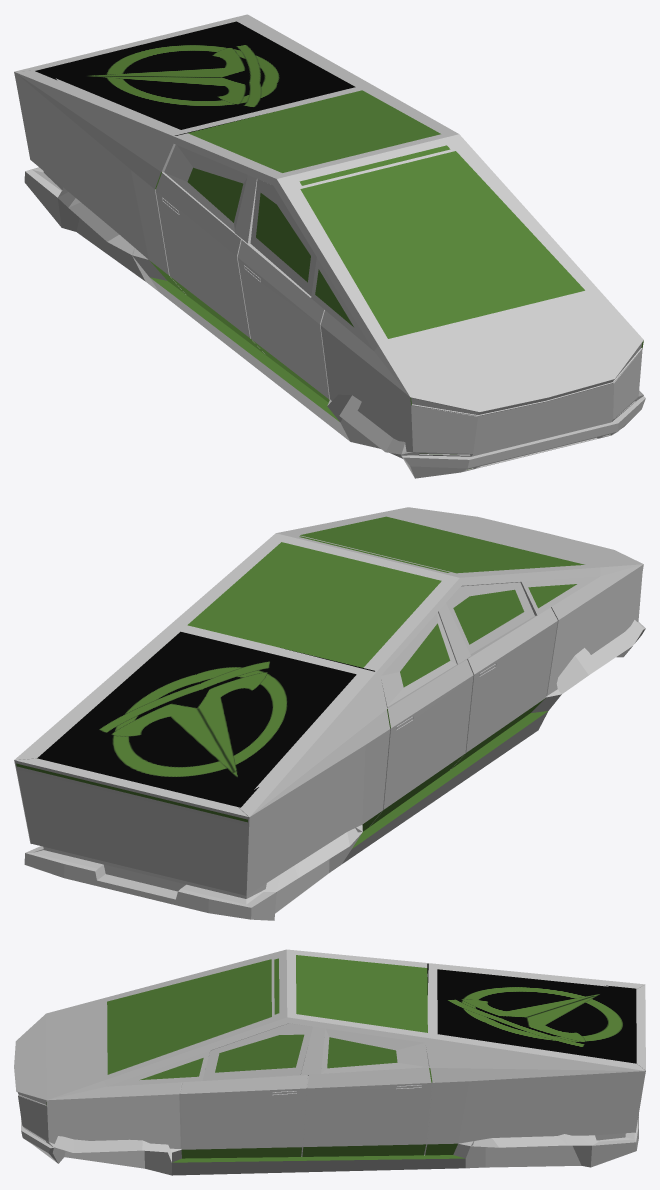
File: TeslaGamesTruck2_greenchasis.obj
3 views of the same model, one above another, from view 1: azimuth 30°, elevation 25°; view 2: azimuth 150°, elevation 25°; view 3: azimuth 270°, elevation 25° (orthographic). The views are drawn at different scales.
Parts seen in each view (by area): view 1: Cube.001_Cube.000, Plane; view 2: Cube.001_Cube.000, Plane; view 3: Cube.001_Cube.000, Plane.
Part boxes in pixels (x1,y1,x2,y2): Cube.001_Cube.000: (14, 14, 645, 478); Plane: (35, 21, 355, 135); Cube.001_Cube.000: (14, 507, 645, 920); Plane: (37, 631, 374, 807); Cube.001_Cube.000: (14, 949, 645, 1175); Plane: (427, 963, 636, 1063).
Bounding box in the file's own units: 7.06 × 5.58 × 20.36.
